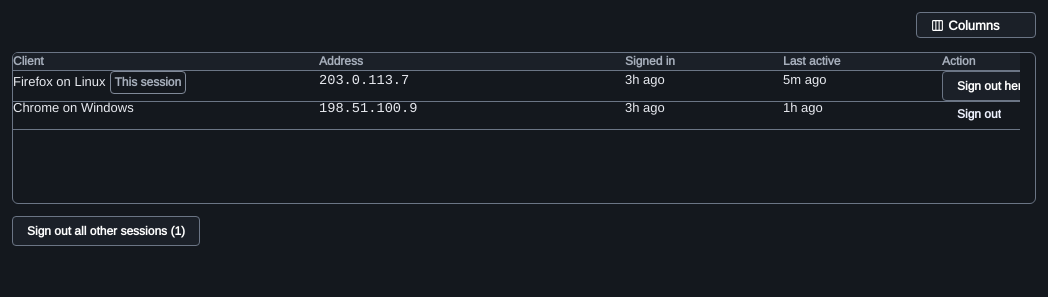
SessionsManager, own sessions › says why a sign-out failed and what to do, and keeps the session listed
Click the button with aria-label "Sign out Chrome on Windows": [979, 114] box [942,99,1016,129]
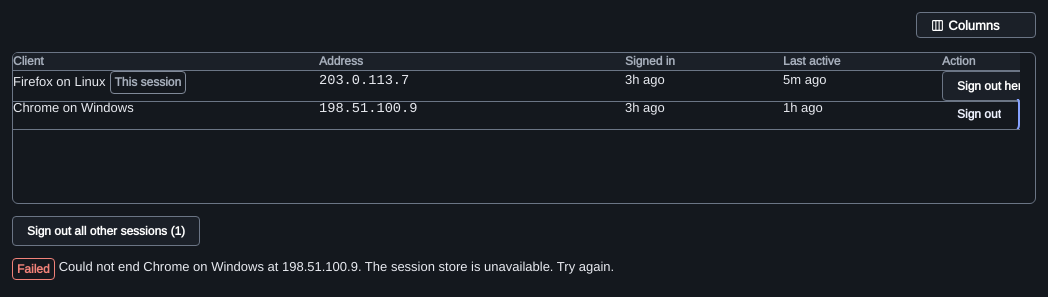
Expected: the element that starts with "Failed" is shown, [12,258,614,280]
